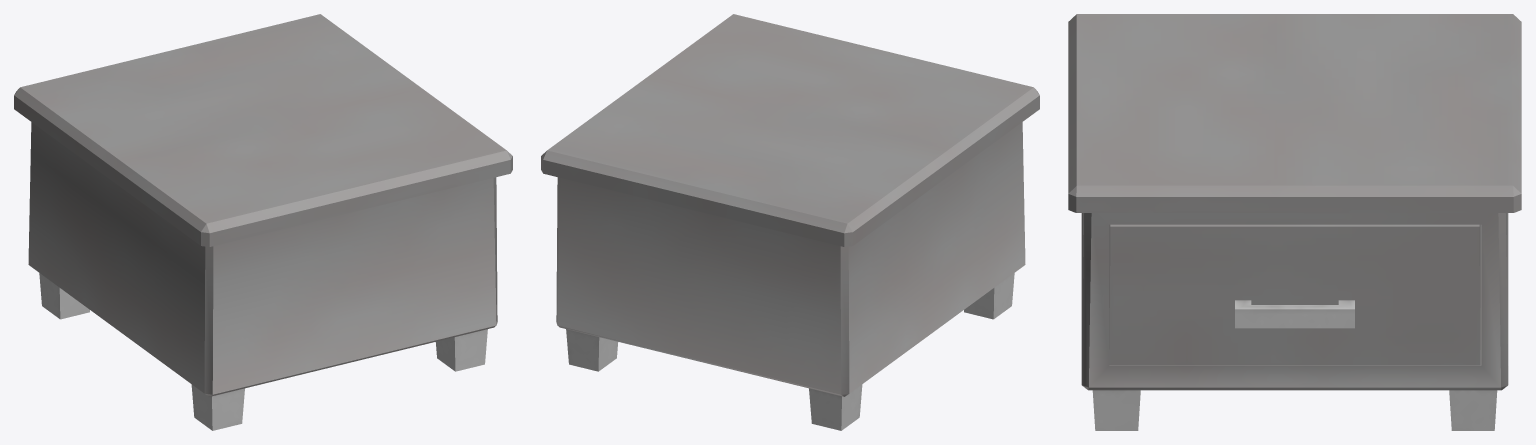
File: Cabinet_Smaller.fbx
3 renders of one model, left to right at view 1: azimuth 30°, elevation 25°; view 2: azimuth 150°, elevation 25°; view 3: azimuth 270°, elevation 25°, orthographic. The views are drawn at different scales.
Visible parts, largest first — view 1: Cabinet_Smaller; view 2: Cabinet_Smaller; view 3: Cabinet_Smaller.
Boxes of the visible parts, x1,y1,x2,y2 form: Cabinet_Smaller: (14,14,512,430); Cabinet_Smaller: (541,14,1039,430); Cabinet_Smaller: (1068,14,1521,430).
Bounding box in the file's own units: 51.46 × 33.47 × 54.25.
